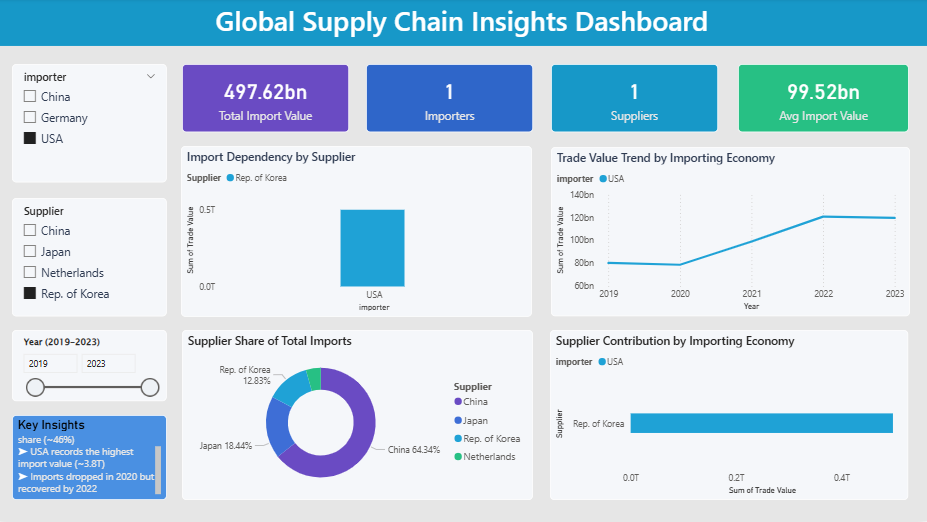

The dashboard page shown, as its layout file describes it:
{"tool":"powerbi","page":{"name":"Page 1","canvas":[1280,720],"ordinal":0},"visuals":[{"type":"clusteredBarChart","title":"Supplier Contribution by Importing Economy","fields":{"Category":["Sheet1.Supplier"],"Y":["Sum(Sheet1.Trade Value)"],"Series":["Sheet1.importer"]},"box":[761.1,456.9,492.7,234],"z":0},{"type":"lineChart","title":"Trade Value Trend by Importing Economy","fields":{"Category":["Sheet1.Year"],"Y":["Sum(Sheet1.Trade Value)"],"Series":["Sheet1.importer"]},"box":[762.5,205.1,494.1,232.6],"z":1000},{"type":"donutChart","title":"Supplier Share of Total Imports","fields":{"Category":["Sheet1.Supplier"],"Y":["Sum(Sheet1.Trade Value)"]},"box":[254.6,456.9,483.1,234],"z":2000},{"type":"lineStackedColumnComboChart","title":"Import Dependency by Supplier","fields":{"Category":["Sheet1.importer"],"Y":["Sum(Sheet1.Trade Value)"],"Series":["Sheet1.Supplier"]},"box":[253.2,203.7,483.1,235.4],"z":3000},{"type":"slicer","fields":{"Values":["Sheet1.importer"]},"box":[21.2,91.2,212.5,162.5],"z":4000},{"type":"slicer","fields":{"Values":["Sheet1.Supplier"]},"box":[21.2,275,212.5,162.5],"z":5000},{"type":"slicer","fields":{"Values":["Sheet1.Year"]},"box":[20.6,456.9,213.3,97.7],"z":6000},{"type":"card","fields":{"Values":["Sum(Sheet1.Trade Value)"]},"box":[254.6,90.8,229.8,93.6],"z":7000},{"type":"card","fields":{"Values":["Sheet1.Avg Import Value"]},"box":[1019.9,90.8,235.4,93.6],"z":8000},{"type":"card","fields":{"Values":["Sheet1.Suppliers"]},"box":[762.5,90.8,229.8,93.6],"z":9000},{"type":"card","fields":{"Values":["Sheet1.Importers"]},"box":[507.9,90.8,229.8,93.6],"z":10000},{"type":"textbox","box":[0,0,1280,66.1],"z":11000},{"type":"textbox","title":"Key Insights","box":[20.6,573.9,213.3,117],"z":12000}]}

Visuals, with their boxes in screenshot pixels (x1, y1, x2, y2), scaled from the page's 1280x720 canvas onto the 927x522 screenshot:
"Supplier Contribution by Importing Economy" clusteredBarChart: rect(551, 331, 908, 501)
"Trade Value Trend by Importing Economy" lineChart: rect(552, 149, 910, 317)
"Supplier Share of Total Imports" donutChart: rect(184, 331, 534, 501)
"Import Dependency by Supplier" lineStackedColumnComboChart: rect(183, 148, 533, 318)
slicer - Sheet1.importer: rect(15, 66, 169, 184)
slicer - Sheet1.Supplier: rect(15, 199, 169, 317)
slicer - Sheet1.Year: rect(15, 331, 169, 402)
card - Sum(Sheet1.Trade Value): rect(184, 66, 351, 134)
card - Sheet1.Avg Import Value: rect(739, 66, 909, 134)
card - Sheet1.Suppliers: rect(552, 66, 719, 134)
card - Sheet1.Importers: rect(368, 66, 534, 134)
textbox: rect(0, 0, 926, 48)
"Key Insights" textbox: rect(15, 416, 169, 501)
